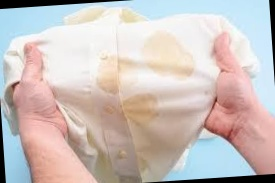oil: (134, 28, 191, 84), (110, 86, 160, 143), (93, 56, 136, 99)
